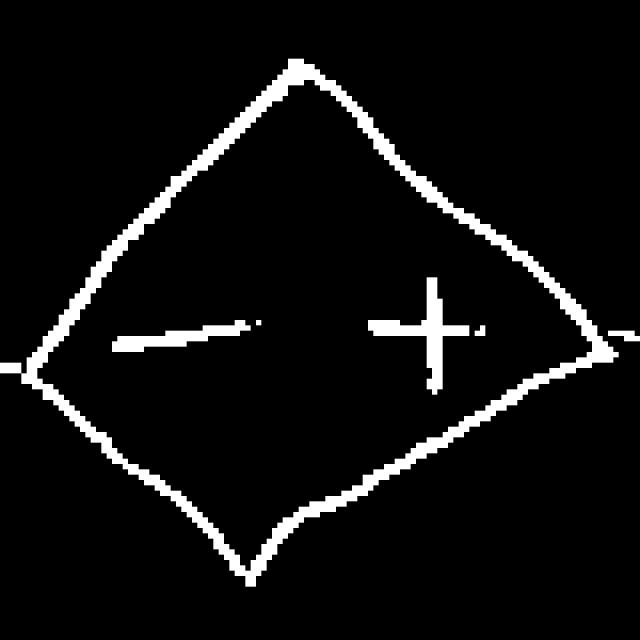dependant_voltage: (12, 61, 600, 572)
